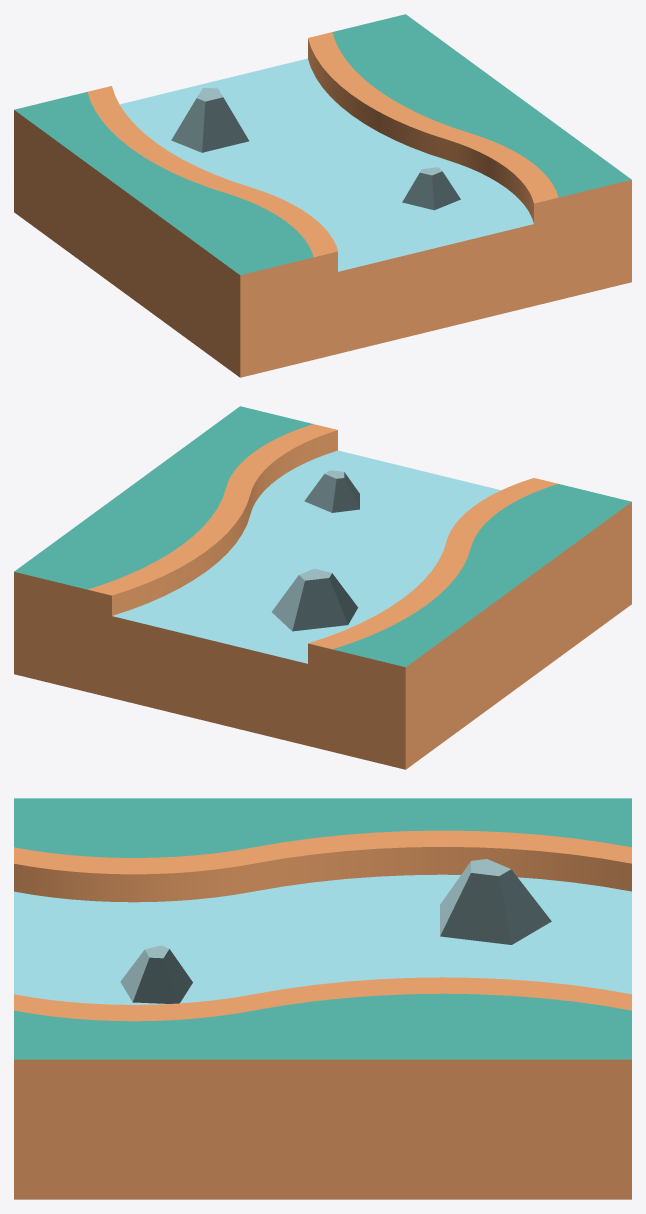
The model's file is ground_dirtRiverRocks.obj.
3 views of the same model, one above another, from view 1: azimuth 30°, elevation 25°; view 2: azimuth 150°, elevation 25°; view 3: azimuth 270°, elevation 25° (orthographic). The views are drawn at different scales.
Parts seen in each view (by area): view 1: ground_dirtRiverRocks; view 2: ground_dirtRiverRocks; view 3: ground_dirtRiverRocks.
Part boxes in pixels (x1,y1,x2,y2): ground_dirtRiverRocks: (14,14,631,377); ground_dirtRiverRocks: (14,406,631,769); ground_dirtRiverRocks: (14,798,631,1199).
Bounding box in the file's own units: 10 × 2.96 × 10.
